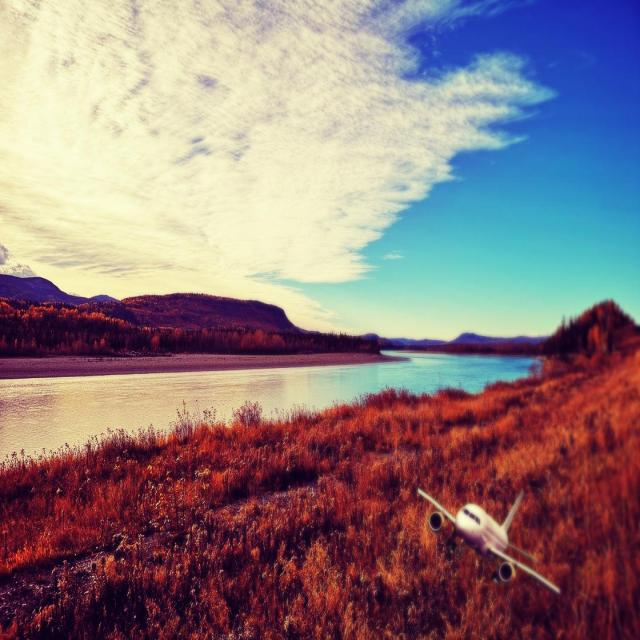airplane: (416, 486, 560, 595)
